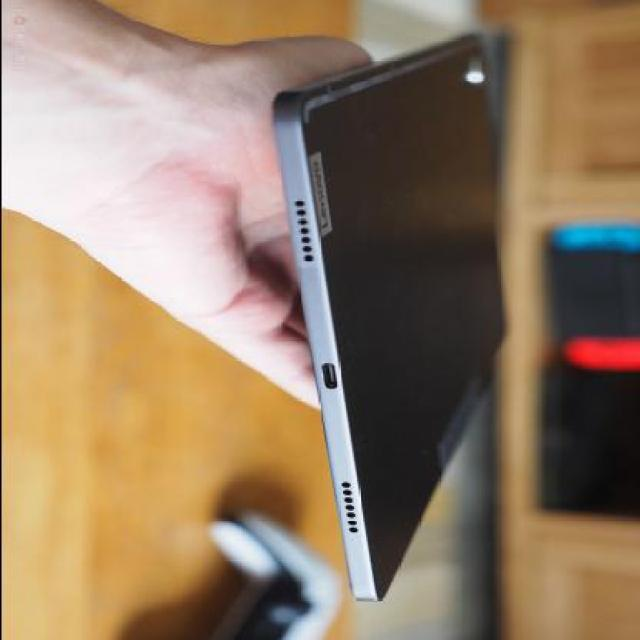tablet: (317, 8, 529, 599)
